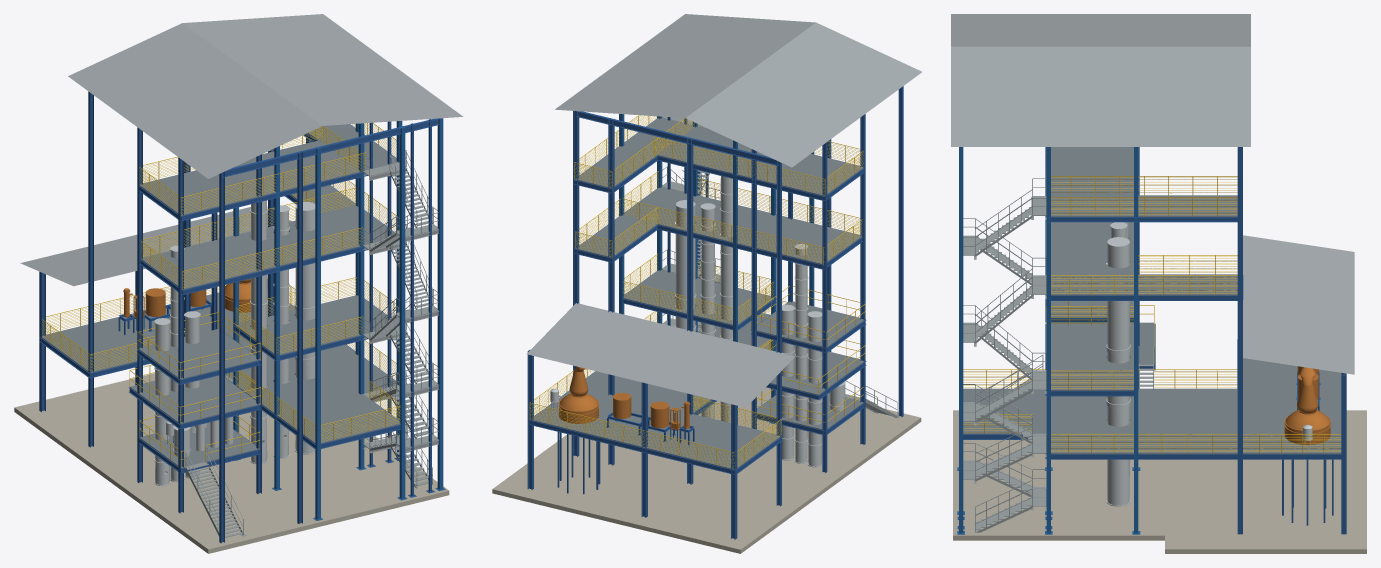
The model's file is torre-dusa.glb.
3 renders of one model, left to right at view 1: azimuth 30°, elevation 25°; view 2: azimuth 150°, elevation 25°; view 3: azimuth 270°, elevation 25°, orthographic. The views are drawn at different scales.
Visible parts, largest first — view 1: Cubierta 1, Cubierta 2, Losa base contorno gris, Piso exterior de acceso a escaleras, Plataforma 6 NPT 15350, Continuación primer piso alambique zona Bach Vinaza, Plataforma 8 NPT 20350, Cubierta 3, Soportes continuos de caja de escaleras, Plataforma 4 NPT 5350, Barandas plataforma 6, Segundo piso zona Bach Vinaza (+52 smaller); view 2: Losa base contorno gris, Cubierta 1, Cubierta 3, Cubierta 2, Plataforma 4 NPT 5350, Plataforma 6 NPT 15350, Plataforma 8 NPT 20350, Barandas plataforma 6, Barandas plataforma 4, Plataforma 9 NPT 20350, Segundo piso zona Bach Vinaza, Barandas plataforma 8 (+41 smaller); view 3: Cubierta 2, Losa base contorno gris, Piso exterior de acceso a escaleras, Cubierta 3, Cubierta 1, Continuación primer piso alambique zona Bach Vinaza, Plataforma 5 NPT 5350, Plataforma 4 NPT 5350, Plataforma 6 NPT 15350, Segundo piso zona Bach Vinaza, Plataforma 8 NPT 20350, Barandas plataforma 9 (+33 smaller).
Boxes of the visible parts, x1=… form: Cubierta 1: x1=68, y1=23, x2=322, y2=178; Cubierta 2: x1=182, y1=14, x2=463, y2=125; Losa base contorno gris: x1=14, y1=373, x2=295, y2=553; Piso exterior de acceso a escaleras: x1=202, y1=432, x2=449, y2=535; Plataforma 6 NPT 15350: x1=141, y1=206, x2=394, y2=289; Continuación primer piso alambique zona Bach Vinaza: x1=235, y1=354, x2=400, y2=443; Plataforma 8 NPT 20350: x1=139, y1=140, x2=360, y2=216; Cubierta 3: x1=20, y1=207, x2=295, y2=286; Soportes continuos de caja de escaleras: x1=367, y1=119, x2=434, y2=497; Plataforma 4 NPT 5350: x1=42, y1=289, x2=295, y2=372; Barandas plataforma 6: x1=141, y1=187, x2=396, y2=289; Segundo piso zona Bach Vinaza: x1=236, y1=295, x2=396, y2=355; Losa base contorno gris: x1=492, y1=408, x2=921, y2=553; Cubierta 1: x1=686, y1=22, x2=921, y2=167; Cubierta 3: x1=526, y1=303, x2=795, y2=407; Cubierta 2: x1=555, y1=14, x2=815, y2=117; Plataforma 4 NPT 5350: x1=530, y1=388, x2=779, y2=469; Plataforma 6 NPT 15350: x1=623, y1=186, x2=862, y2=264; Plataforma 8 NPT 20350: x1=657, y1=126, x2=863, y2=196; Barandas plataforma 6: x1=623, y1=171, x2=862, y2=264; Barandas plataforma 4: x1=529, y1=370, x2=781, y2=467; Plataforma 9 NPT 20350: x1=574, y1=117, x2=694, y2=188; Segundo piso zona Bach Vinaza: x1=623, y1=269, x2=773, y2=325; Barandas plataforma 8: x1=653, y1=124, x2=863, y2=195; Cubierta 2: x1=951, y1=46, x2=1250, y2=146; Losa base contorno gris: x1=953, y1=410, x2=1366, y2=553; Piso exterior de acceso a escaleras: x1=953, y1=450, x2=1164, y2=540; Cubierta 3: x1=1243, y1=235, x2=1354, y2=374; Cubierta 1: x1=951, y1=14, x2=1250, y2=46; Continuación primer piso alambique zona Bach Vinaza: x1=963, y1=388, x2=1133, y2=454; Plataforma 5 NPT 5350: x1=1138, y1=388, x2=1237, y2=454; Plataforma 4 NPT 5350: x1=1243, y1=358, x2=1341, y2=454; Plataforma 6 NPT 15350: x1=1051, y1=222, x2=1133, y2=295; Segundo piso zona Bach Vinaza: x1=1051, y1=325, x2=1133, y2=390; Plataforma 8 NPT 20350: x1=1051, y1=147, x2=1133, y2=195; Barandas plataforma 9: x1=1046, y1=176, x2=1237, y2=216.
Size of the model in its own units: 18.87 by 27 by 23.79.
